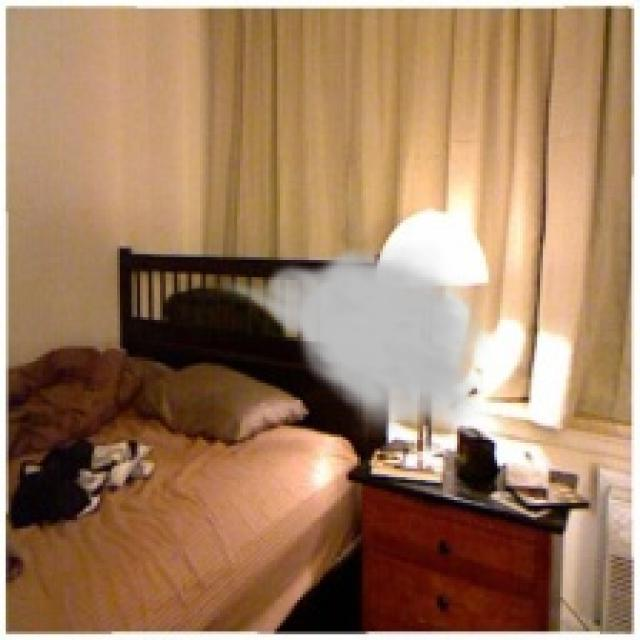smoke: (212, 240, 492, 440)
